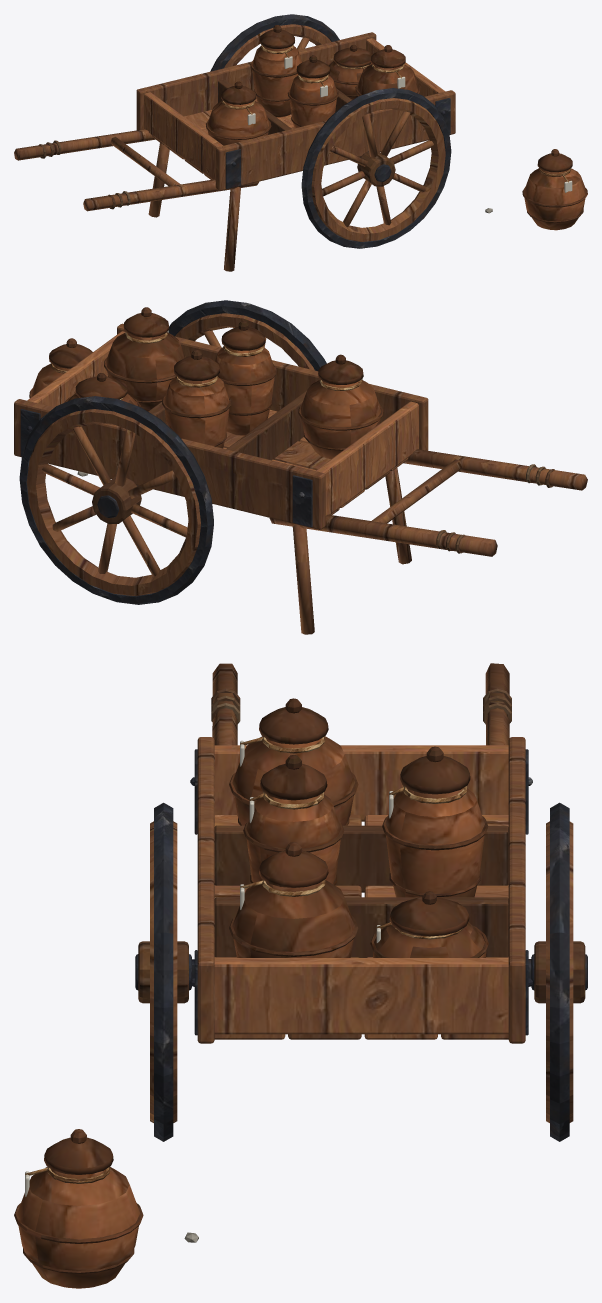
File: qb_urn_cart.glb
3 renders of one model, top to bottom at view 1: azimuth 30°, elevation 25°; view 2: azimuth 150°, elevation 25°; view 3: azimuth 270°, elevation 25°, orthographic. The views are drawn at different scales.
Parts seen in each view (by area): view 1: model; view 2: model; view 3: model.
Part boxes in pixels (x1,y1,x2,y2): model: (14,14,587,271); model: (14,300,587,634); model: (14,663,587,1288).
Size of the model in its own units: 1.85 by 0.6856 by 1.01.
13 materials, 12 textured.
